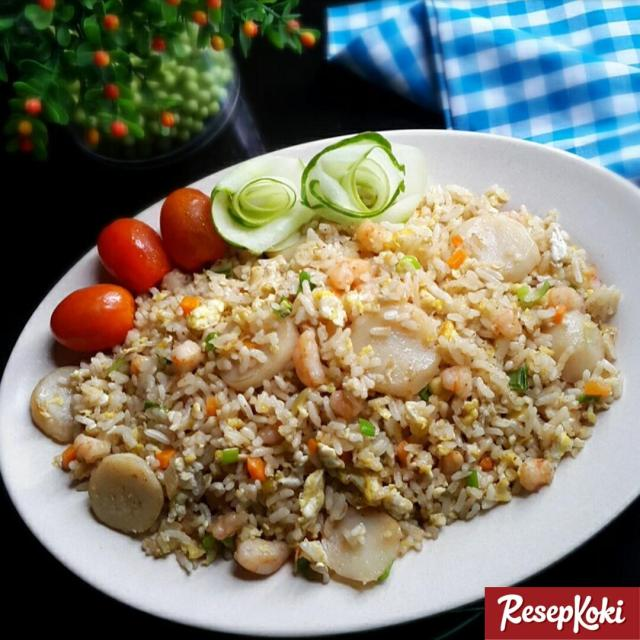Nasi Goreng: (95, 246, 620, 550)
